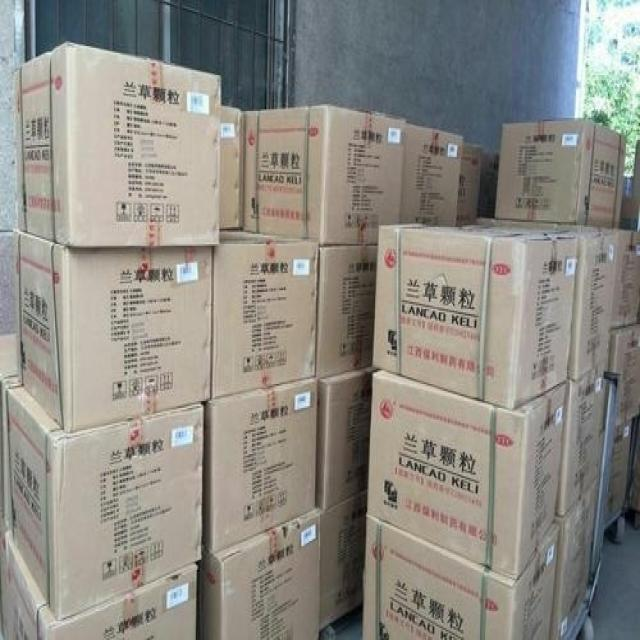box: (1, 377, 205, 623), (12, 43, 223, 247), (367, 369, 564, 579), (12, 230, 214, 432), (371, 224, 579, 410), (362, 515, 559, 640), (0, 521, 198, 640), (243, 106, 406, 246), (205, 379, 317, 555), (211, 230, 320, 398), (198, 507, 320, 638), (494, 119, 626, 227), (315, 246, 378, 379), (316, 364, 372, 512), (557, 360, 609, 517), (552, 481, 599, 640), (568, 232, 617, 382), (317, 495, 366, 633), (402, 121, 463, 224), (0, 331, 18, 522), (605, 420, 634, 526), (220, 106, 244, 229), (613, 324, 640, 428), (612, 230, 640, 329), (457, 143, 480, 225)
